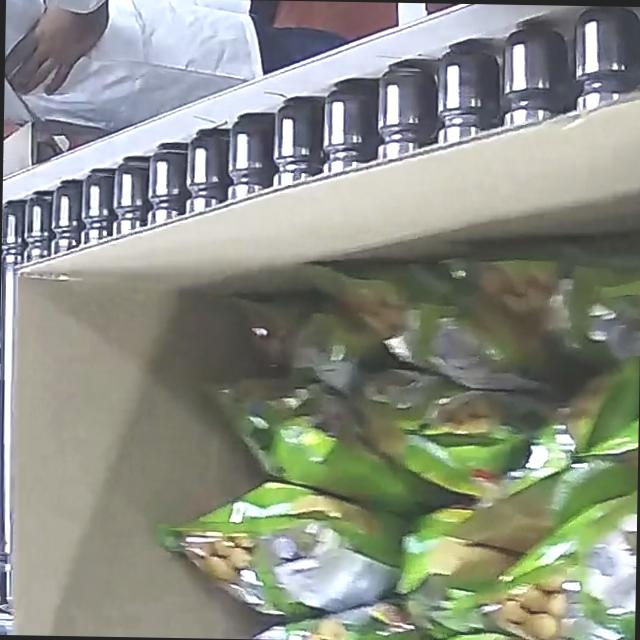yogurt: (149, 222, 640, 640)
